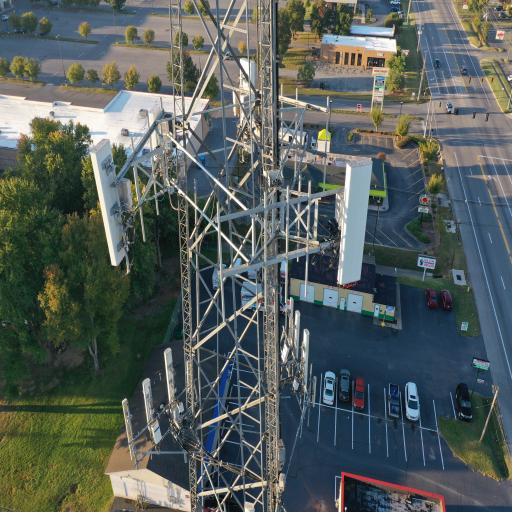supporting_tower: (92, 0, 394, 512)
